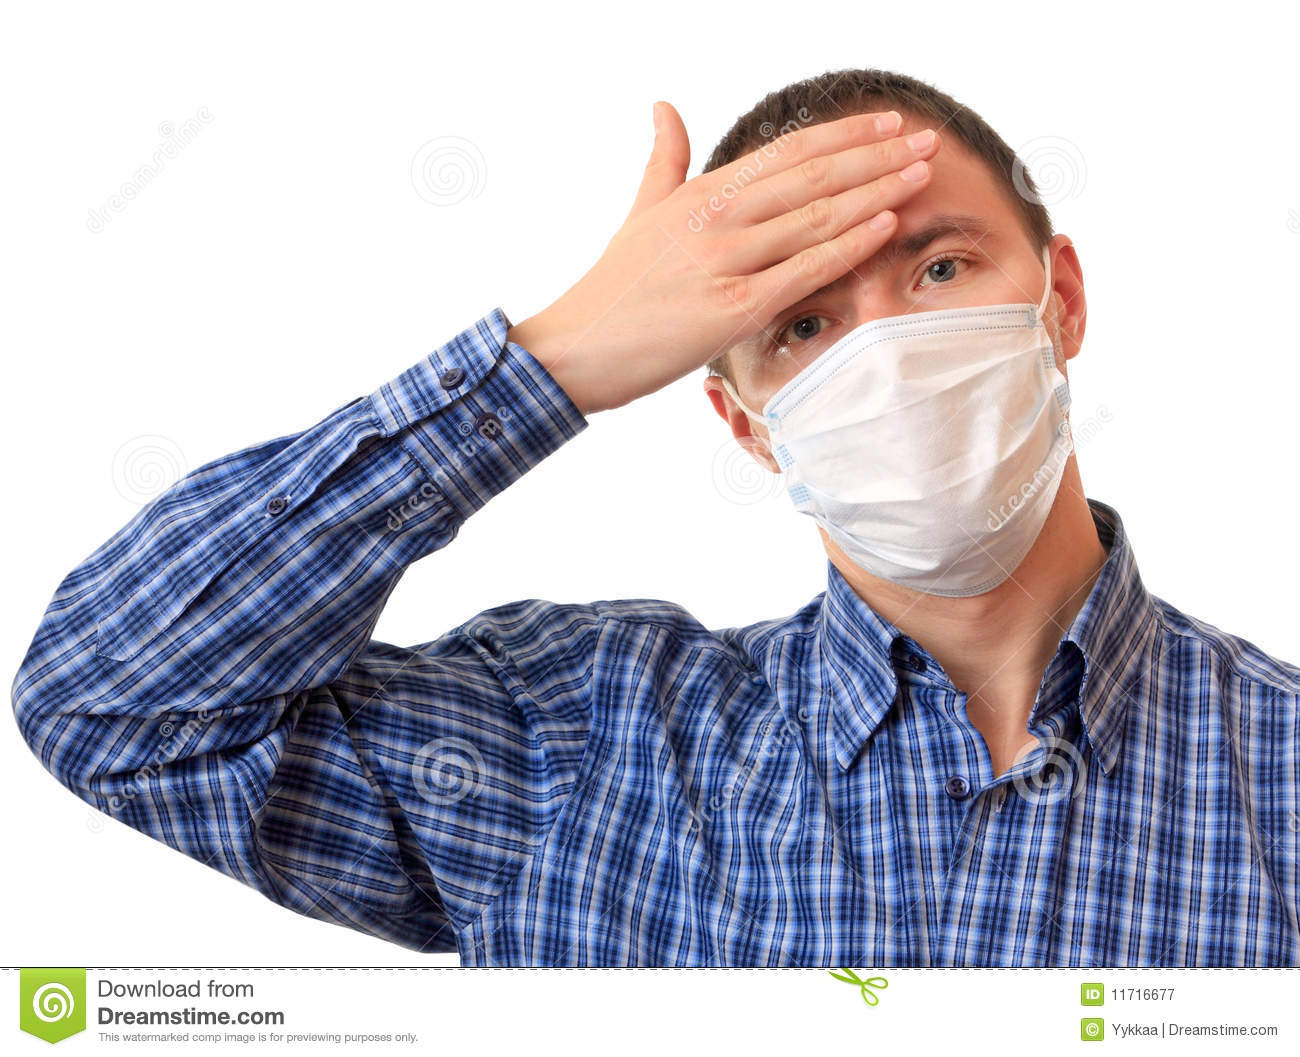mask: (767, 310, 1075, 590)
